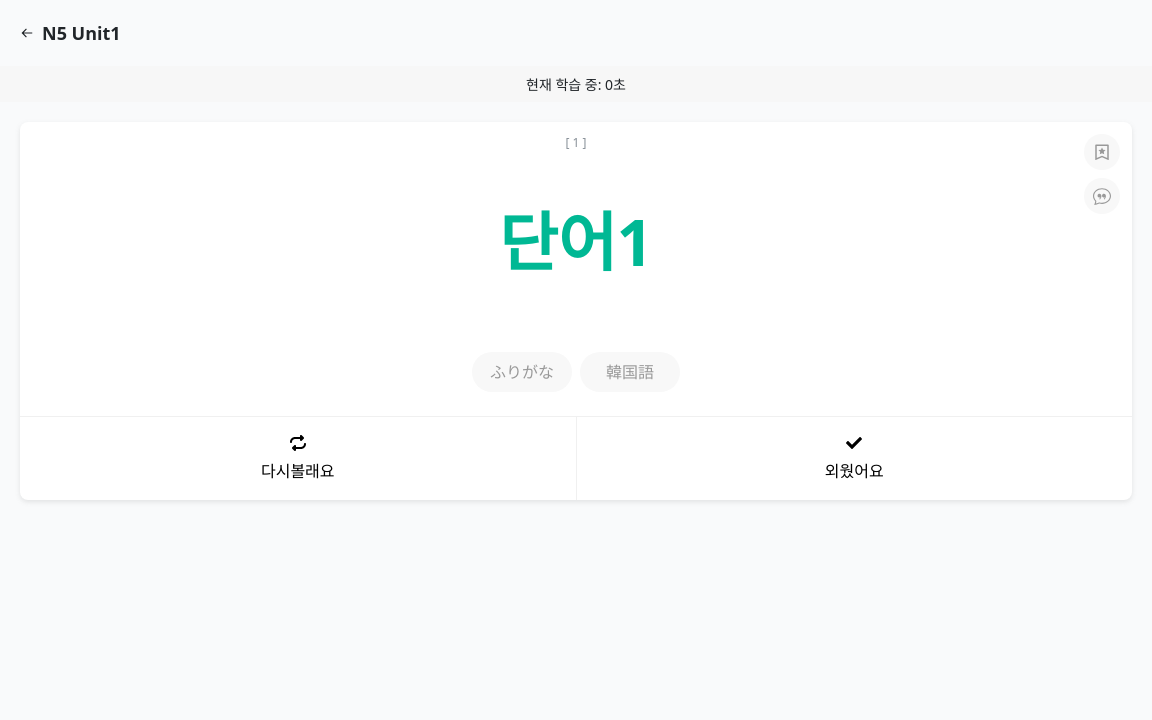
학습 페이지 흐름 › 다시 볼 단어가 하나 남아 있으면 마지막 다른 단어를 외워도 복습한다
The image size is (1152, 720).
expect the text "단어1" is shown: met, box [499,194,653,290]
Step 1. Click the button "다시볼래요" → (298, 458), box [20,417,576,500]
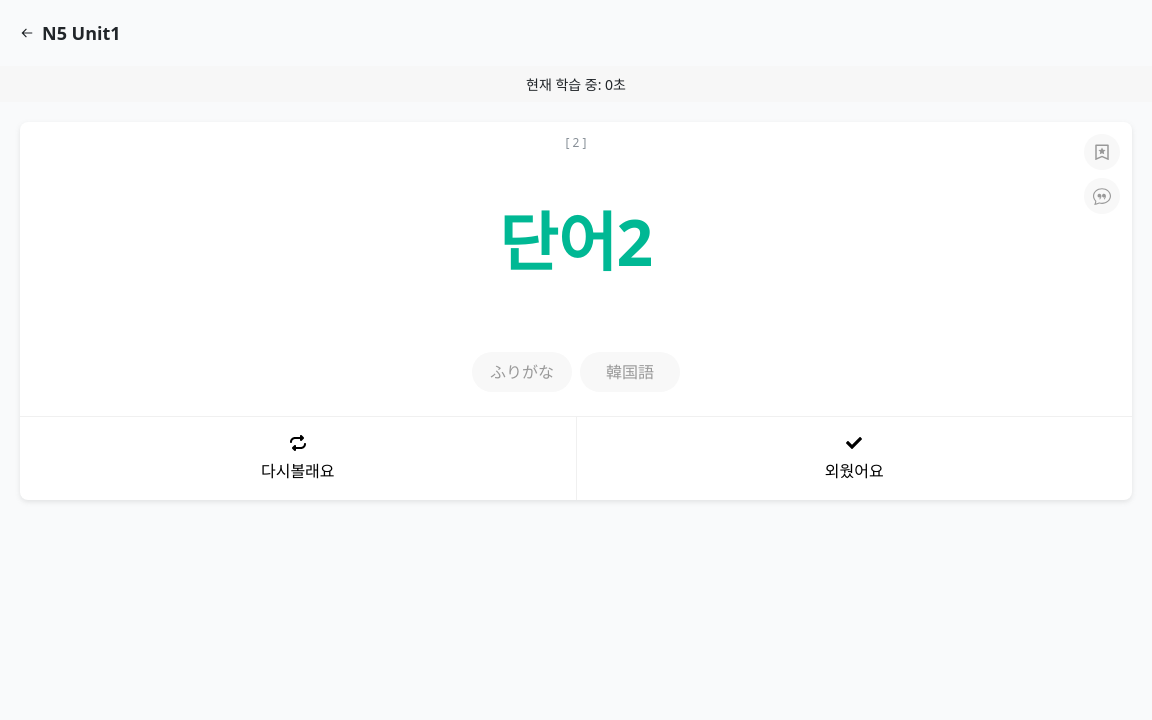
Step 2. Click the button "외웠어요" → (854, 458), box [576,417,1132,500]
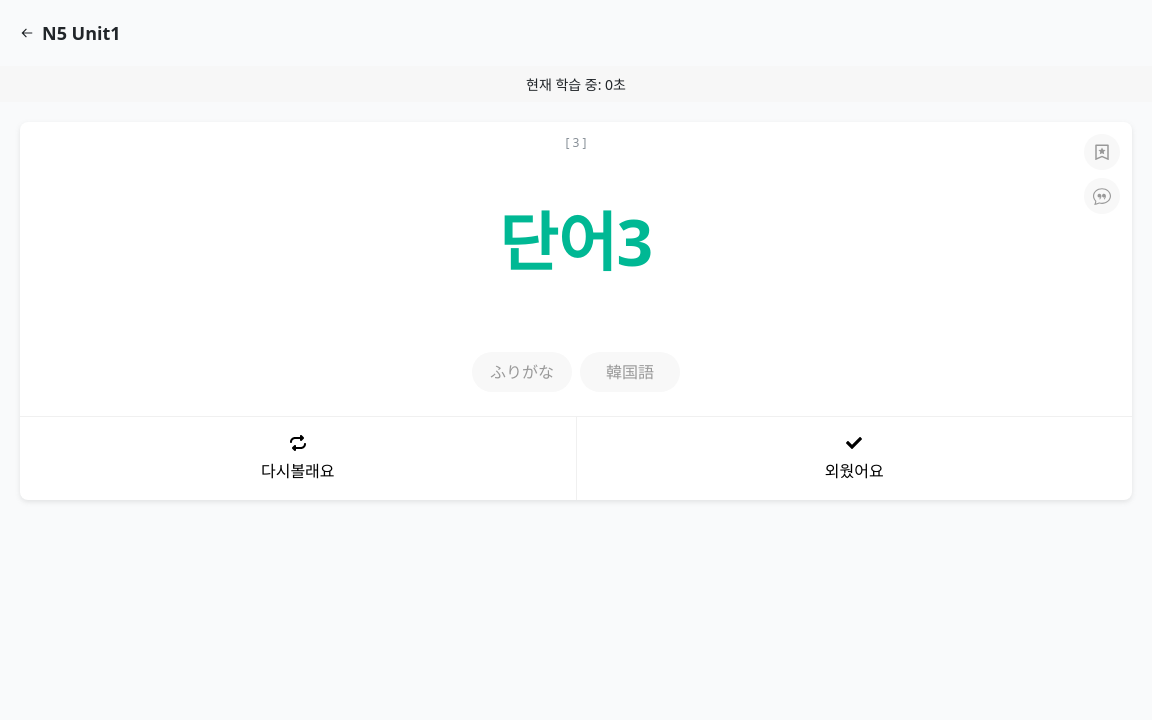
Step 3. Click the button "외웠어요" → (854, 458), box [576,417,1132,500]
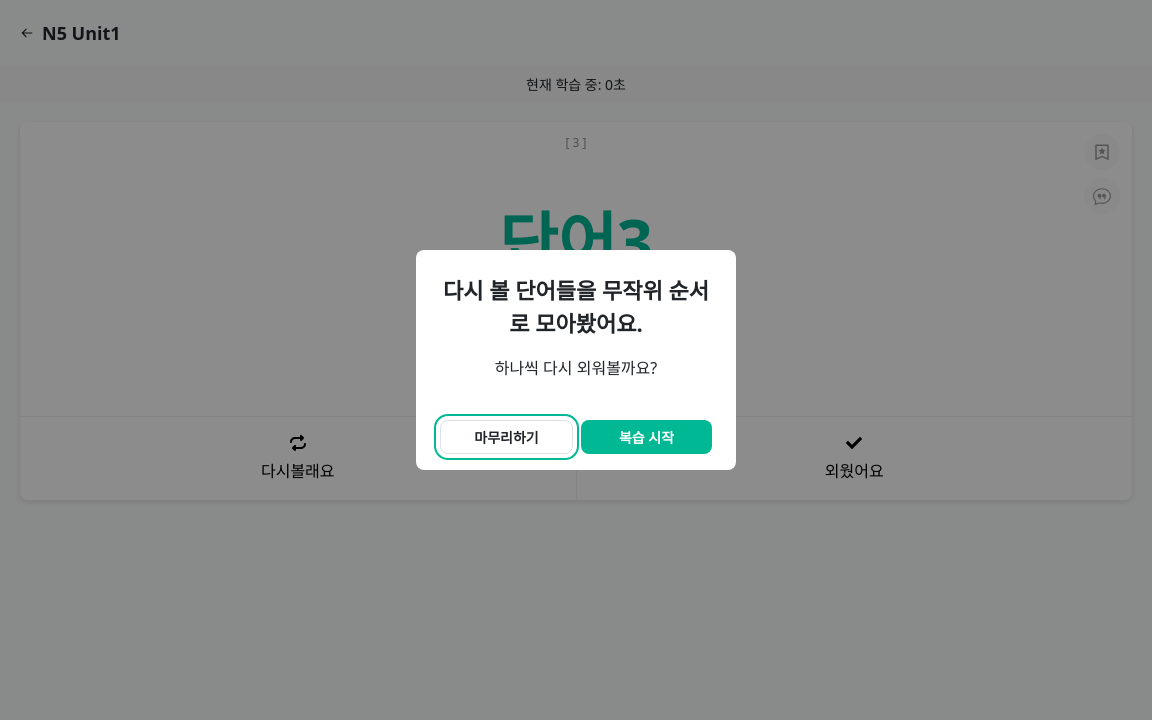
expect the button "복습 시작" is shown: met, box [581,420,712,454]
